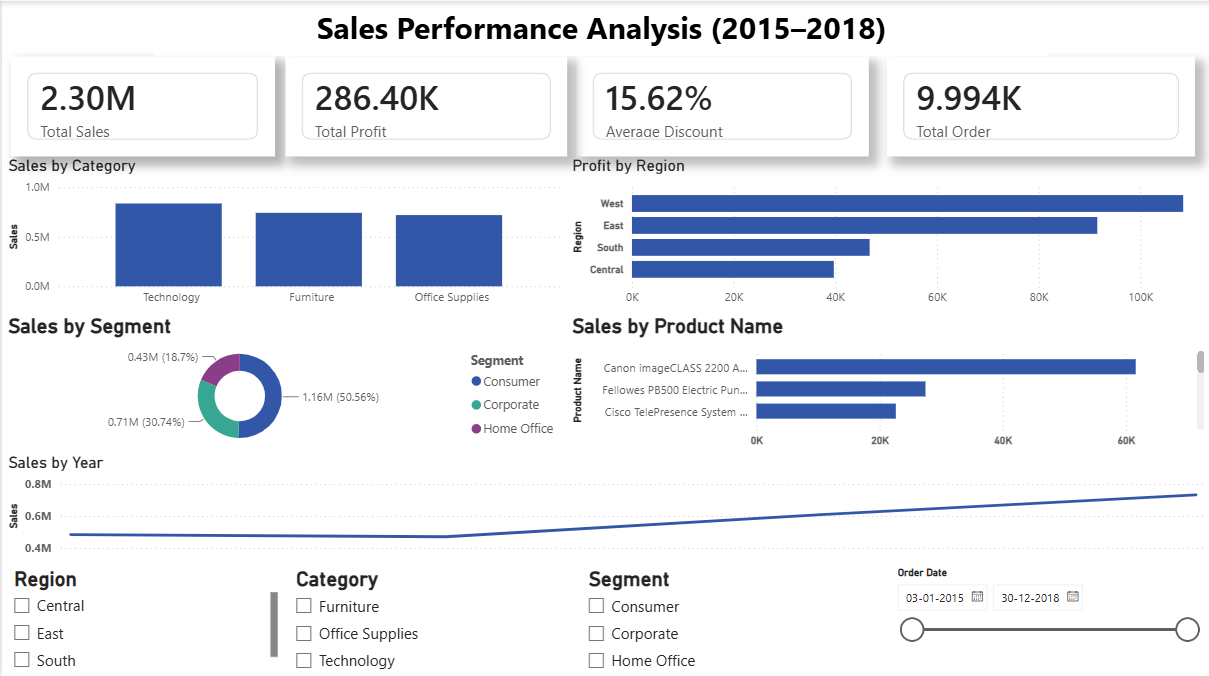

Layout of this report page (visuals, bound fields, positions):
{"tool":"powerbi","page":{"name":"Page 1","canvas":[1280,720],"ordinal":0},"visuals":[{"type":"clusteredBarChart","fields":{"Y":["Sum(clean_superstore.Profit)"],"Category":["clean_superstore.Region"]},"box":[599.1,163.5,680.1,168.4],"z":0},{"type":"cardVisual","fields":{"Data":["Avg(clean_superstore.Discount)"]},"box":[608.5,58.6,309.9,105.8],"z":1000},{"type":"clusteredColumnChart","fields":{"Category":["clean_superstore.Category"],"Y":["Sum(clean_superstore.Sales)"]},"box":[1.6,163.5,599.1,168.4],"z":2000},{"type":"donutChart","fields":{"Category":["clean_superstore.Segment"],"Y":["Sum(clean_superstore.Sales)"]},"box":[1.6,331.9,597.5,147.3],"z":3000},{"type":"barChart","fields":{"Category":["clean_superstore.Product Name"],"Y":["Sum(clean_superstore.Sales)"]},"box":[599.1,331.9,680.1,147.3],"z":4000},{"type":"lineChart","fields":{"Category":["clean_superstore.Order Date.Variation.Date Hierarchy.Year","clean_superstore.Order Date.Variation.Date Hierarchy.Month"],"Y":["Sum(clean_superstore.Sales)"]},"box":[1.6,479.3,1279.2,115],"z":5000},{"type":"cardVisual","fields":{"Data":["Sum(clean_superstore.Sales)"]},"box":[9.4,58.6,279.7,105.8],"z":6000},{"type":"cardVisual","fields":{"Data":["Sum(clean_superstore.Profit)"]},"box":[300.5,58.6,298.6,105.8],"z":7000},{"type":"cardVisual","fields":{"Data":["CountNonNull(clean_superstore.Order ID)"]},"box":[939.2,58.6,326.9,105.8],"z":8000},{"type":"slicer","fields":{"Values":["clean_superstore.Region"]},"box":[0,594.3,297.9,126.3],"z":9000},{"type":"slicer","fields":{"Values":["clean_superstore.Category"]},"box":[299.6,594.3,299.6,126.3],"z":10000},{"type":"slicer","fields":{"Values":["clean_superstore.Segment"]},"box":[608.8,594.3,323.8,126.3],"z":11000},{"type":"slicer","fields":{"Values":["clean_superstore.Order Date"]},"box":[937.5,594.3,341.7,126.3],"z":12000},{"type":"textbox","box":[161.9,0,947.2,58.3],"z":13000}]}

Visuals, with their boxes in screenshot pixels (x1, y1, x2, y2), scaled from the page's 1280x720 canvas onto the 1209x676 screenshot:
clusteredBarChart - Sum(clean_superstore.Profit) x clean_superstore.Region: crop(566, 154, 1208, 312)
cardVisual - Avg(clean_superstore.Discount): crop(575, 55, 867, 154)
clusteredColumnChart - clean_superstore.Category x Sum(clean_superstore.Sales): crop(2, 154, 567, 312)
donutChart - clean_superstore.Segment x Sum(clean_superstore.Sales): crop(2, 312, 566, 450)
barChart - clean_superstore.Product Name x Sum(clean_superstore.Sales): crop(566, 312, 1208, 450)
lineChart - clean_superstore.Order Date.Variation.Date Hierarchy.Year x clean_superstore.Order Date.Variation.Date Hierarchy.Month: crop(2, 450, 1208, 558)
cardVisual - Sum(clean_superstore.Sales): crop(9, 55, 273, 154)
cardVisual - Sum(clean_superstore.Profit): crop(284, 55, 566, 154)
cardVisual - CountNonNull(clean_superstore.Order ID): crop(887, 55, 1196, 154)
slicer - clean_superstore.Region: crop(0, 558, 281, 675)
slicer - clean_superstore.Category: crop(283, 558, 566, 675)
slicer - clean_superstore.Segment: crop(575, 558, 881, 675)
slicer - clean_superstore.Order Date: crop(885, 558, 1208, 675)
textbox: crop(153, 0, 1048, 55)
